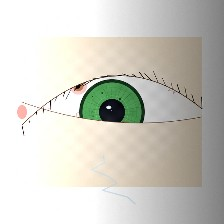foreign_body_visible: (110, 117, 142, 143)
